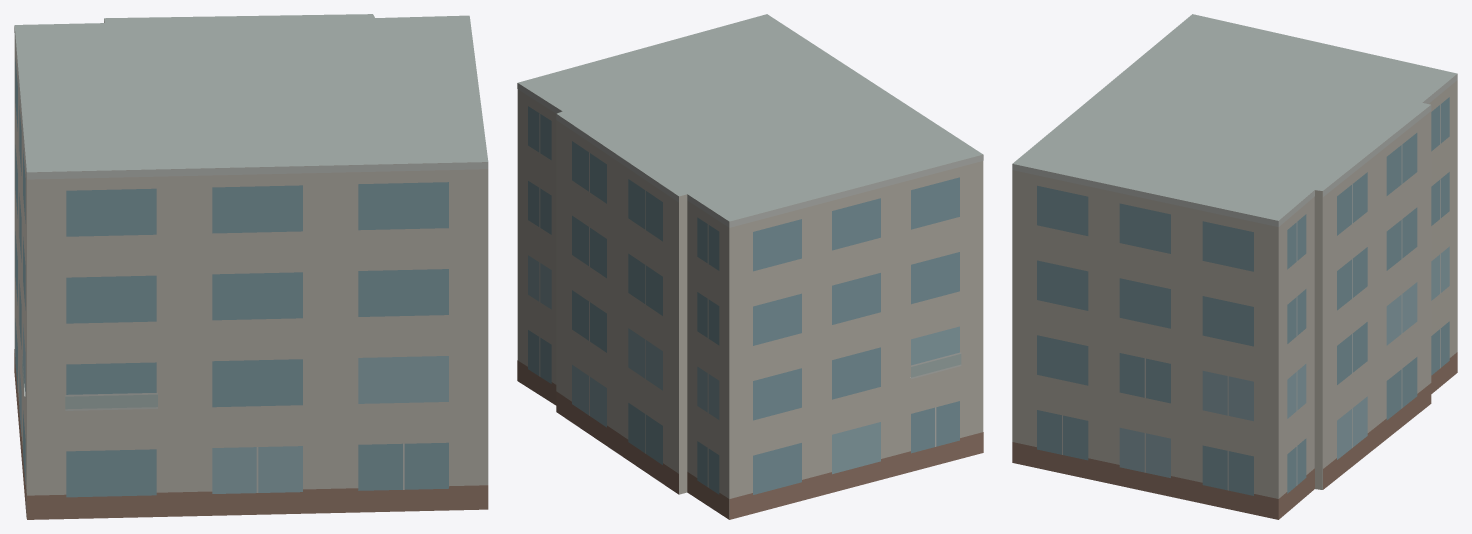
Rendered from survey-upis-32684277.glb.
3 views of the same model, side by side, from view 1: azimuth 30°, elevation 25°; view 2: azimuth 150°, elevation 25°; view 3: azimuth 270°, elevation 25° (orthographic). The views are drawn at different scales.
Parts seen in each view (by area): view 1: survey-upis-32684277.tmp; view 2: survey-upis-32684277.tmp; view 3: survey-upis-32684277.tmp.
Part boxes in pixels (x1,y1,x2,y2): survey-upis-32684277.tmp: (14,14,488,519); survey-upis-32684277.tmp: (517,14,983,519); survey-upis-32684277.tmp: (1012,14,1457,519).
Size of the model in its own units: 17.23 by 11.6 by 15.67.
